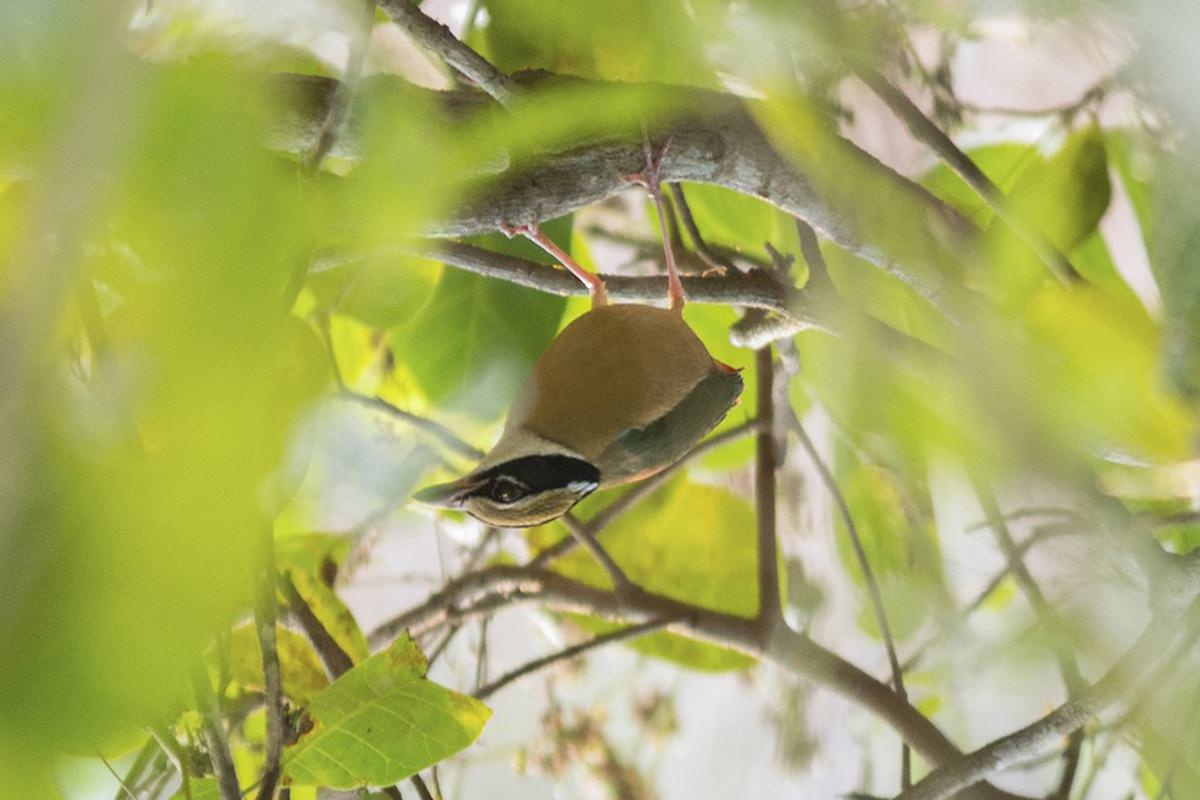pitta: (398, 176, 751, 567)
